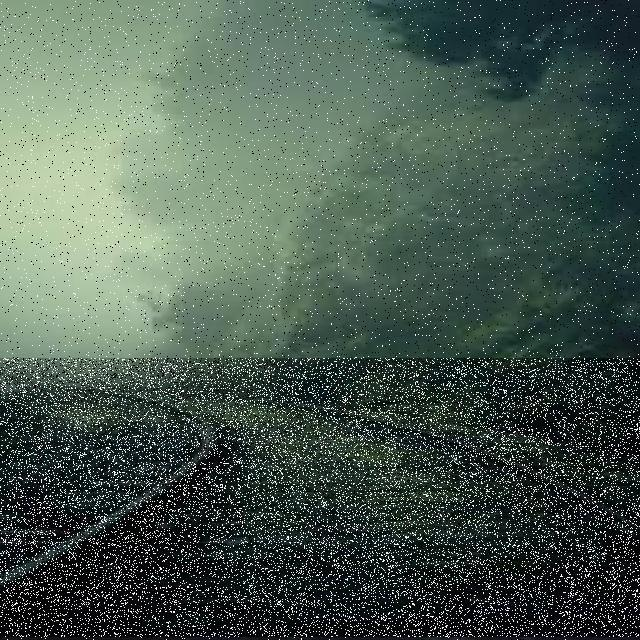rail: (1, 359, 640, 638)
